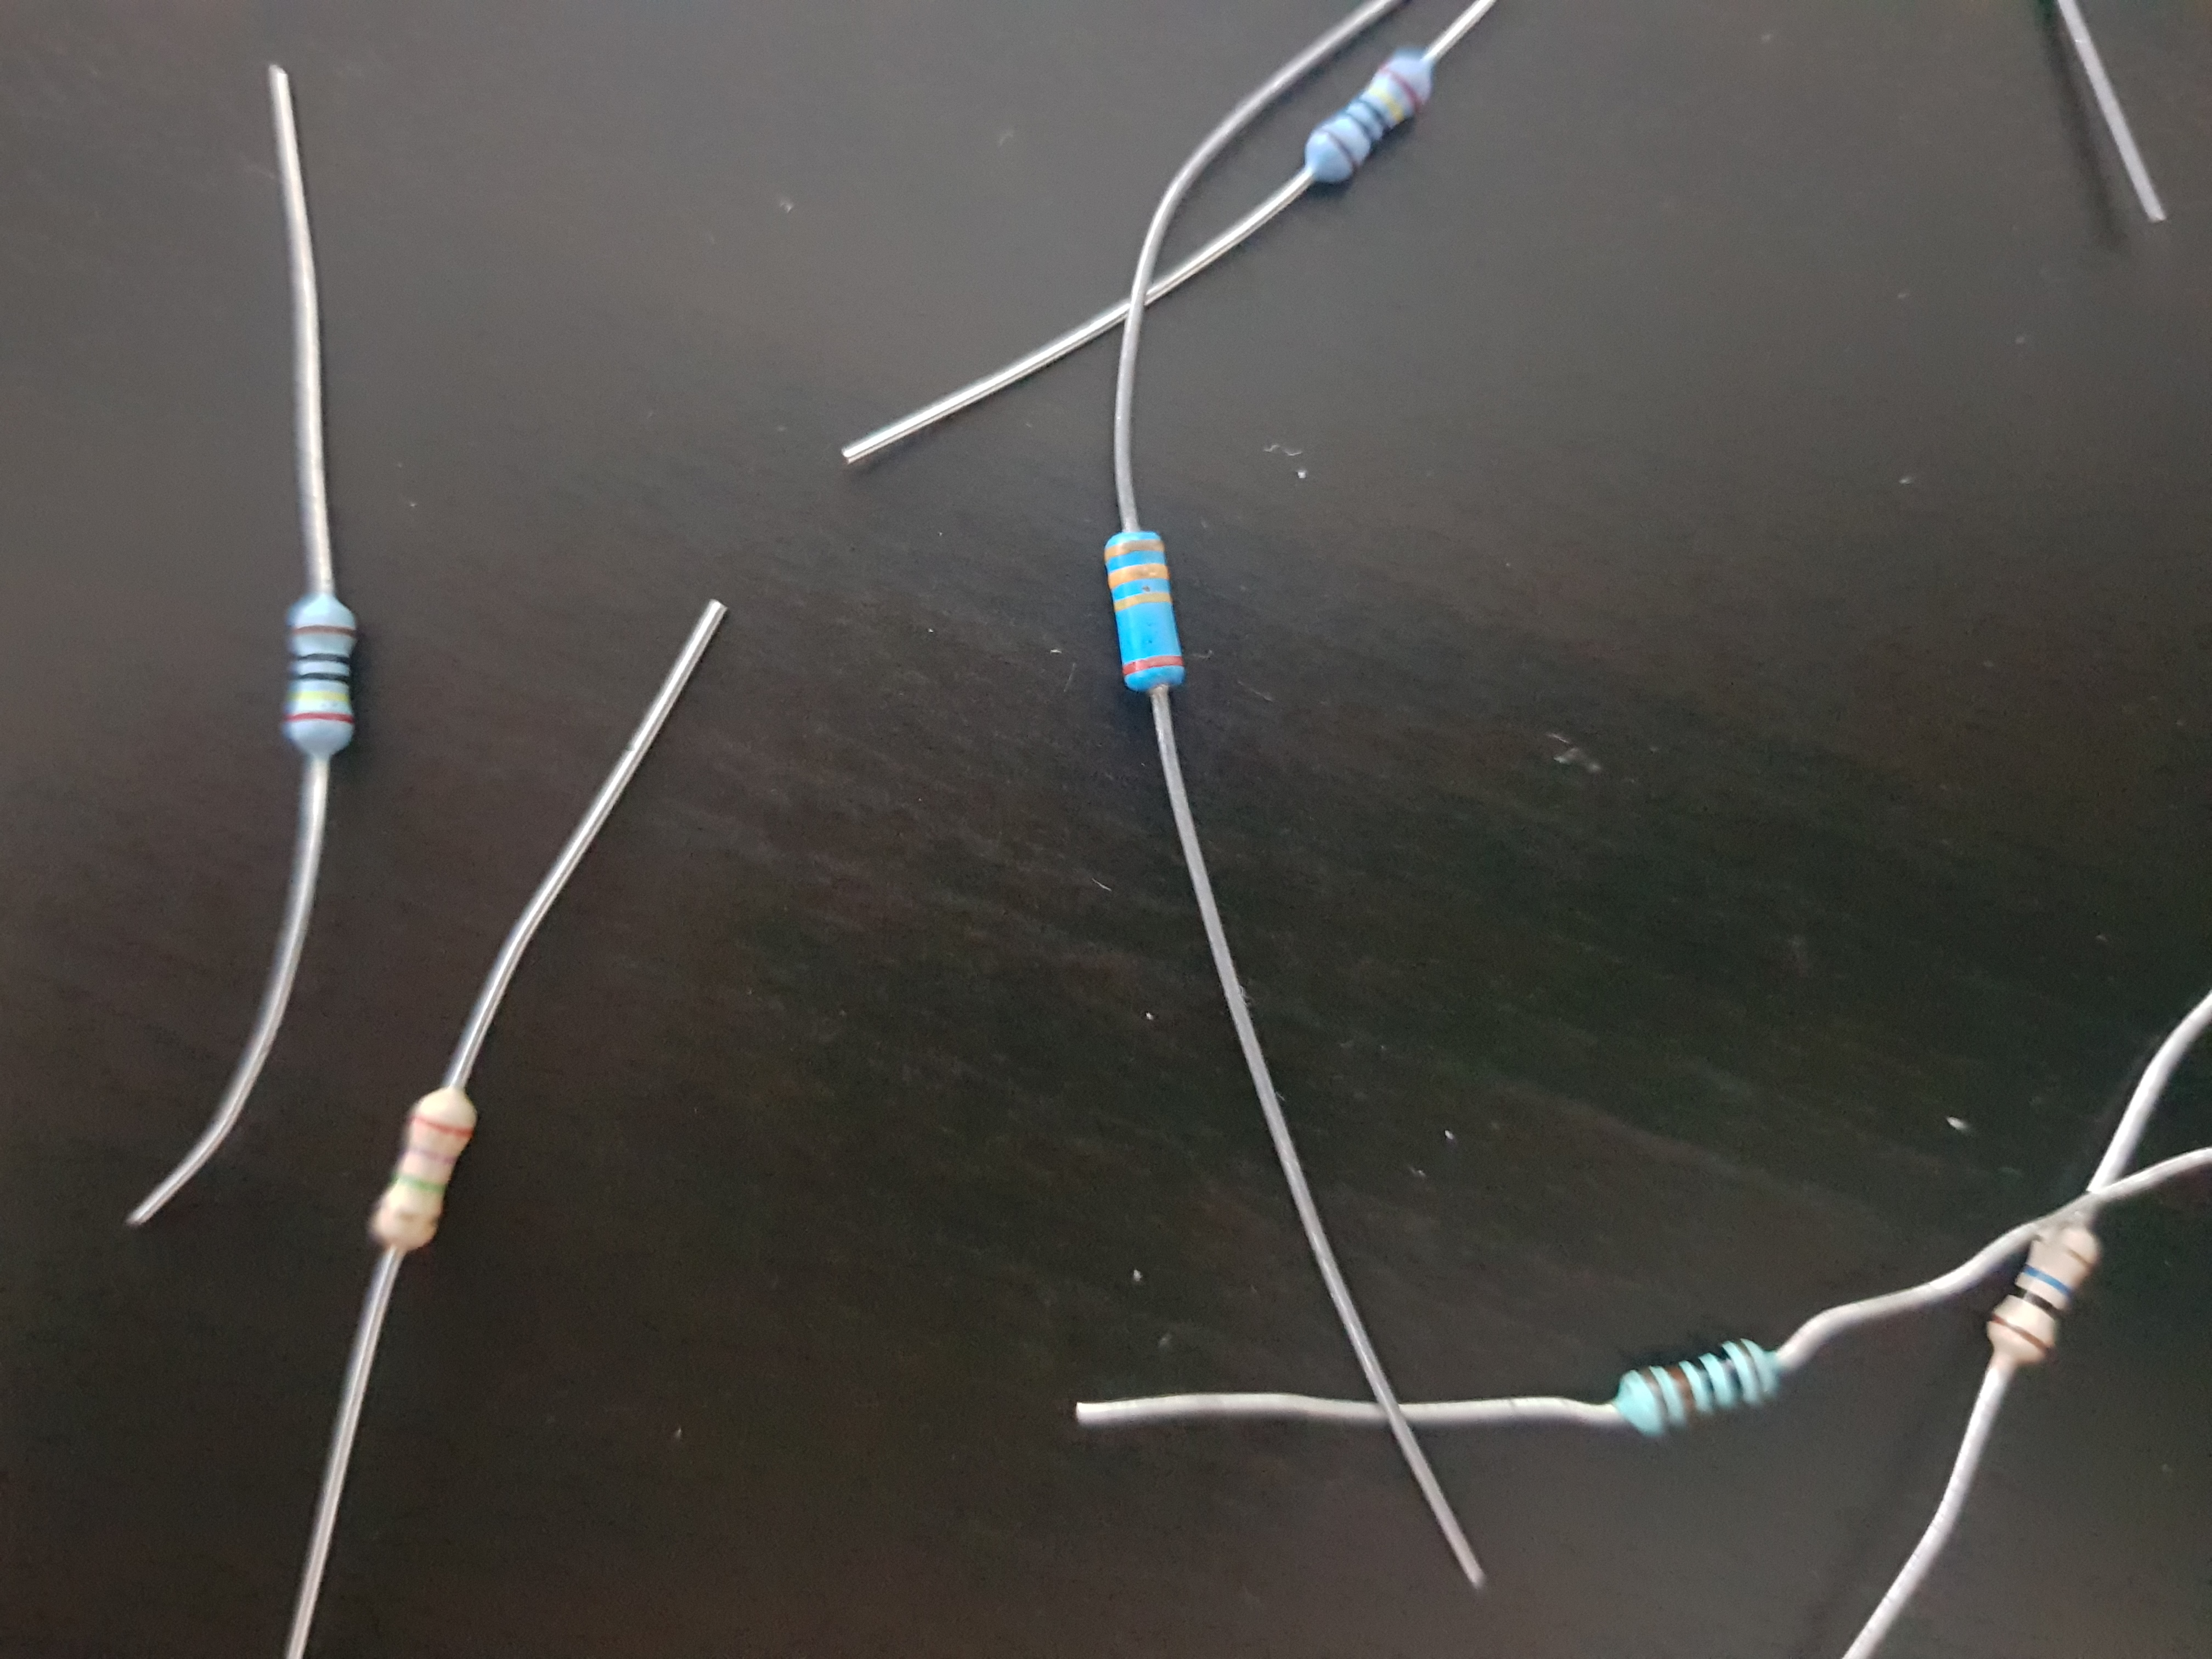resistor: (272, 1011, 601, 1344), (192, 559, 437, 901), (1505, 1298, 1848, 1534), (1233, 16, 1526, 272), (1019, 502, 1240, 798), (1966, 1121, 2134, 1493)
